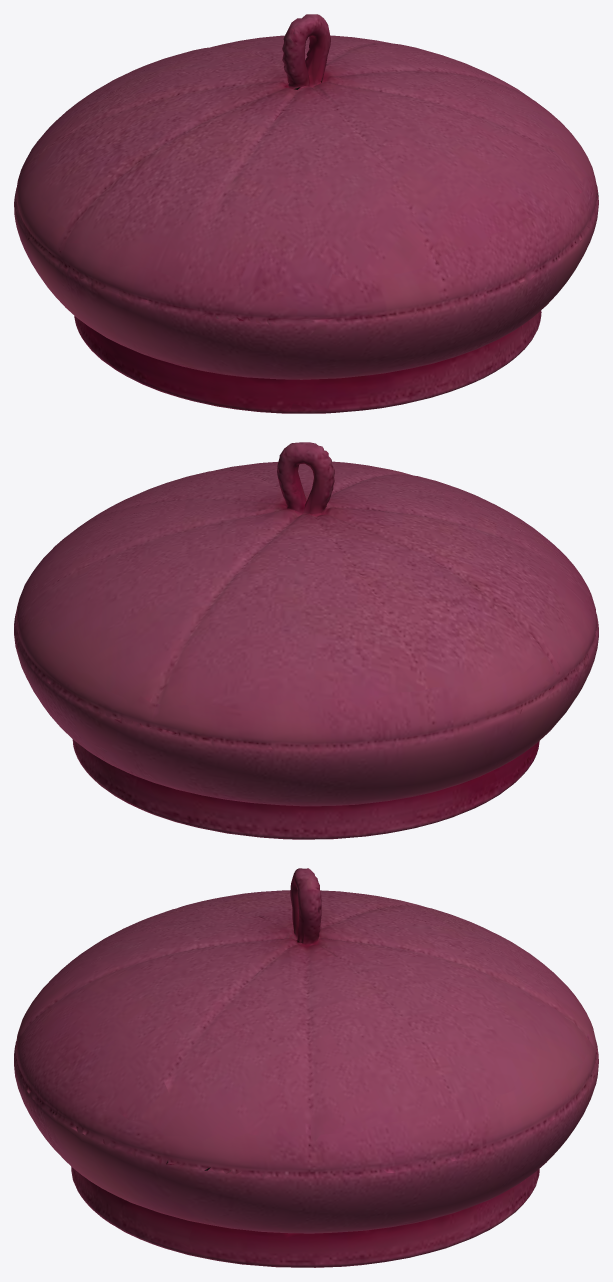
Rendered from beret.glb.
3 renders of one model, top to bottom at view 1: azimuth 30°, elevation 25°; view 2: azimuth 150°, elevation 25°; view 3: azimuth 270°, elevation 25°, orthographic.
Parts seen in each view (by area): view 1: node_0; view 2: node_0; view 3: node_0.
Part boxes in pixels (box(x1,y1,x2,y2)): node_0: box(14, 14, 598, 413); node_0: box(14, 442, 598, 839); node_0: box(14, 868, 598, 1267).
Bounding box in the file's own units: 0.46 × 0.2603 × 0.4595.
1 material, 1 textured.
